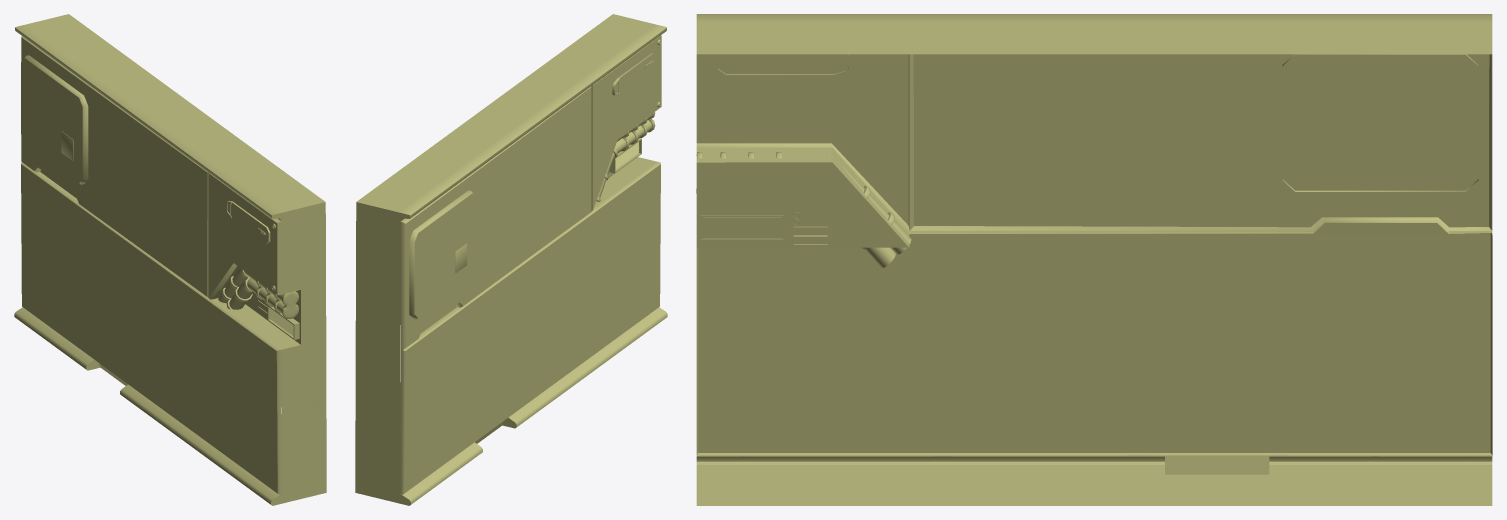
Rendered from pared2.fbx.
The picture shows the model from 3 angles, left to right: view 1: azimuth 30°, elevation 25°; view 2: azimuth 150°, elevation 25°; view 3: azimuth 270°, elevation 25°; orthographic projection. The views are drawn at different scales.
Visible parts, largest first — view 1: 030; view 2: 030; view 3: 030.
Boxes of the visible parts, x1,y1,x2,y2 form: 030: [14, 14, 326, 505]; 030: [355, 14, 667, 505]; 030: [696, 14, 1492, 505].
Size of the model in its own units: 50 by 250 by 400.
